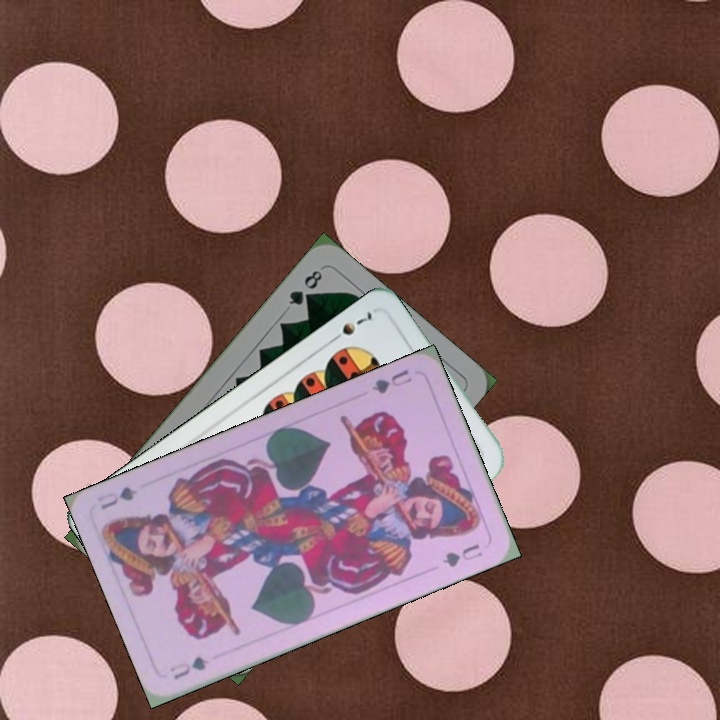G8: (284, 266, 326, 308)
GU: (367, 365, 415, 397), (165, 652, 212, 683)
S7: (325, 308, 375, 346)
